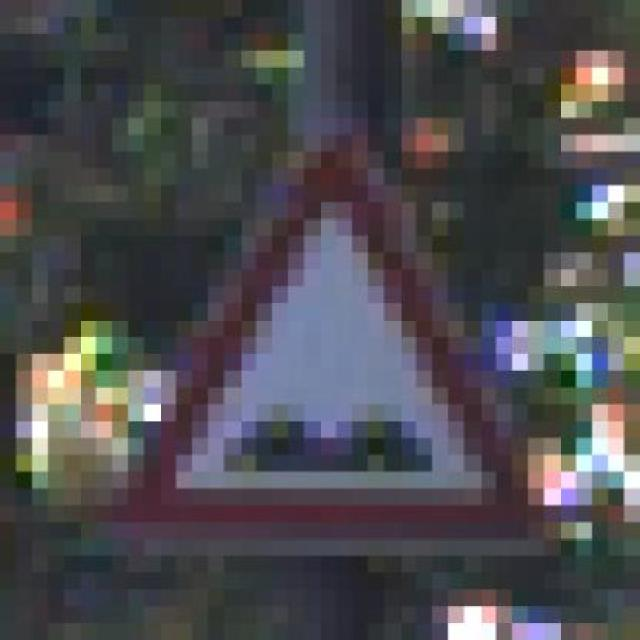Uneven Road: (96, 84, 576, 590)
